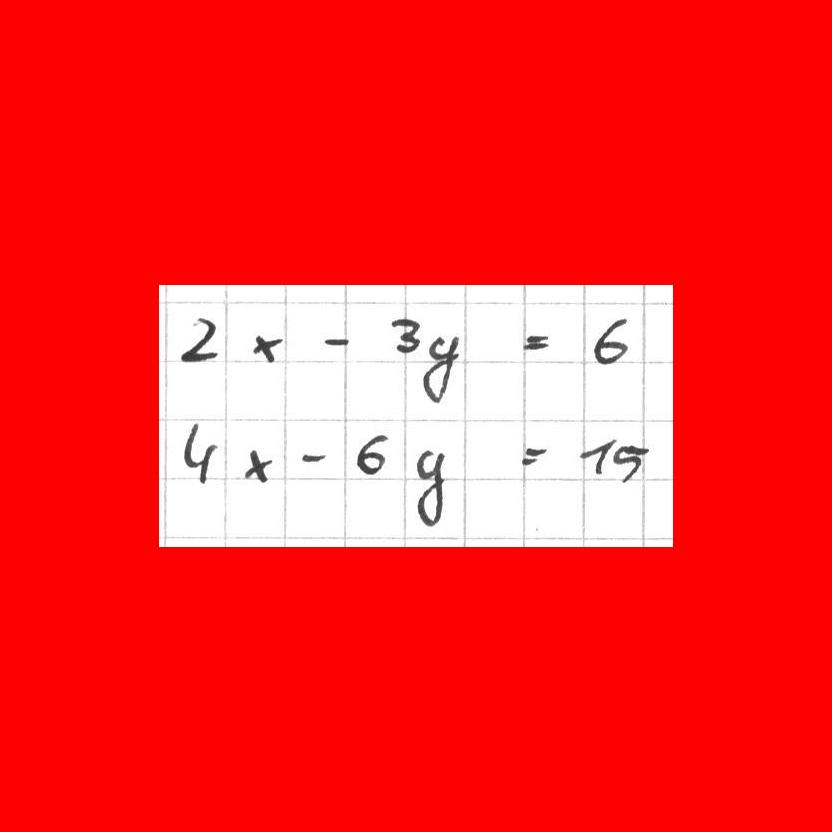Char: (411, 444, 448, 529), (420, 332, 462, 405), (180, 418, 219, 484), (589, 314, 630, 371), (352, 428, 392, 481), (178, 313, 220, 363), (576, 435, 616, 480), (387, 313, 423, 359), (611, 442, 649, 483), (242, 446, 273, 483), (251, 333, 283, 364), (518, 441, 547, 471), (519, 330, 550, 354), (298, 447, 328, 467), (321, 333, 352, 350)
